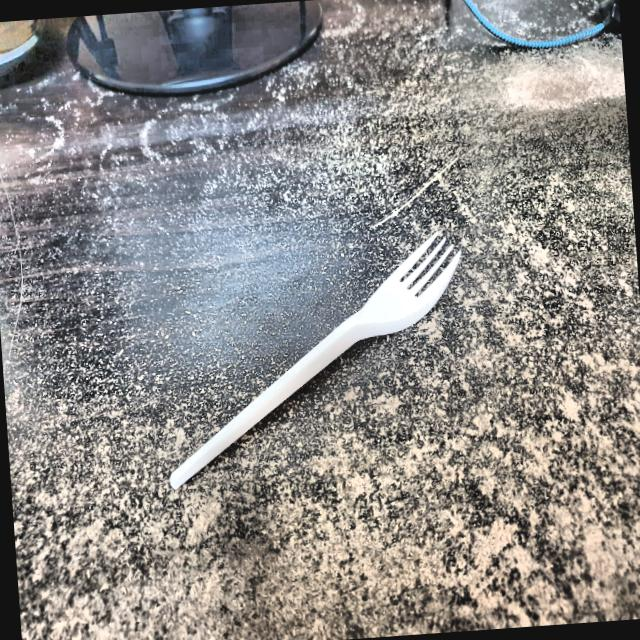plastic utensil: (151, 221, 483, 488)
